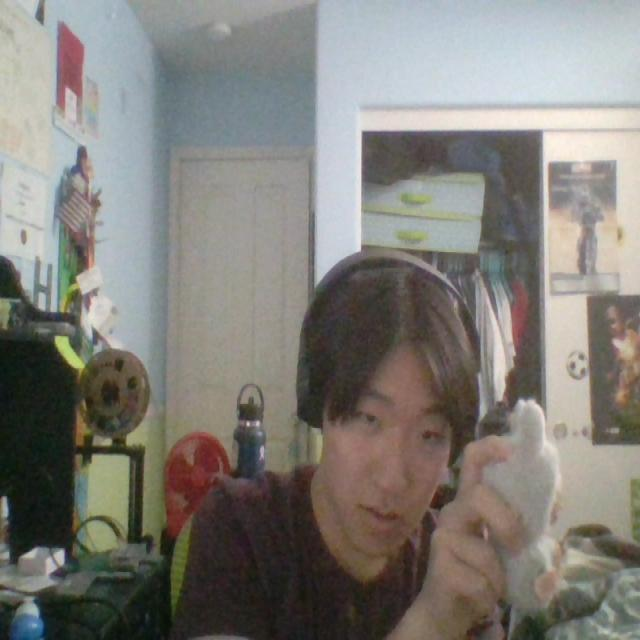labubu: (484, 399, 561, 623)
